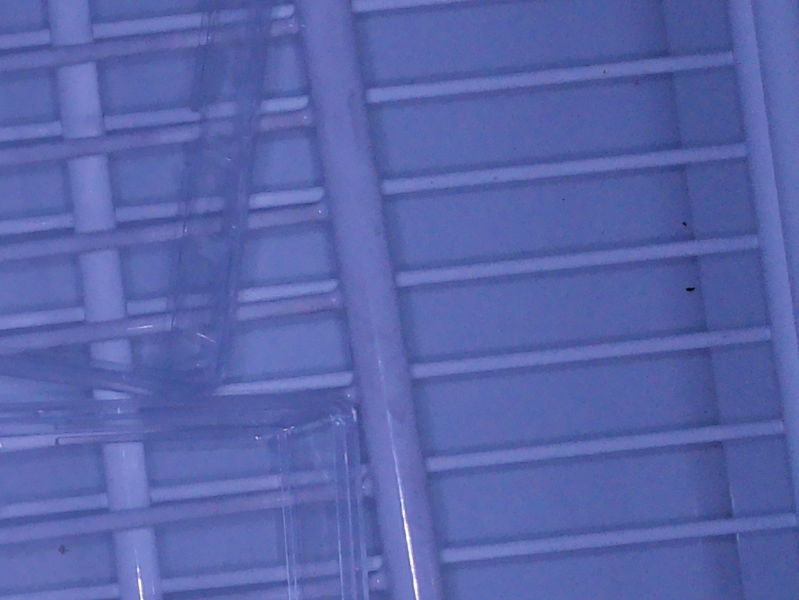plate: (1, 1, 272, 401), (1, 392, 361, 600)
